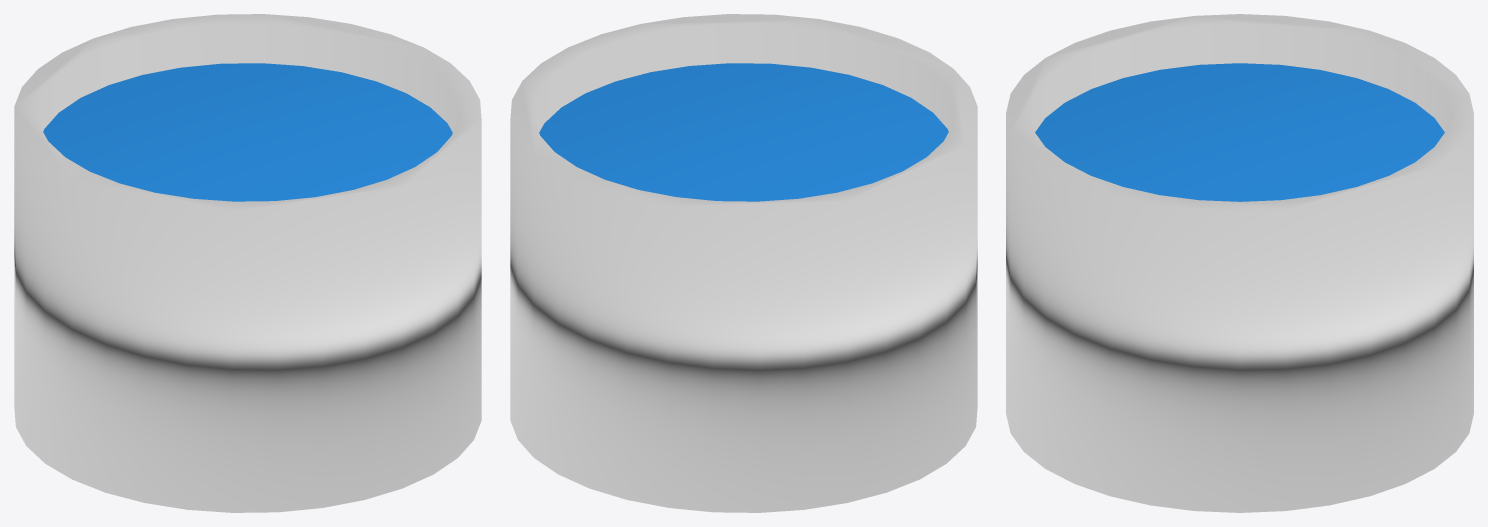
Rendered from Water Holdable.fbx.
The picture shows the model from 3 angles, left to right: view 1: azimuth 30°, elevation 25°; view 2: azimuth 150°, elevation 25°; view 3: azimuth 270°, elevation 25°; orthographic projection.
Visible parts, largest first — view 1: Cylinder.001; view 2: Cylinder.001; view 3: Cylinder.001.
Boxes of the visible parts, x1,y1,x2,y2 form: Cylinder.001: (14,14,481,512); Cylinder.001: (510,14,977,512); Cylinder.001: (1006,14,1473,512).
Size of the model in its own units: 179 by 127 by 179.
